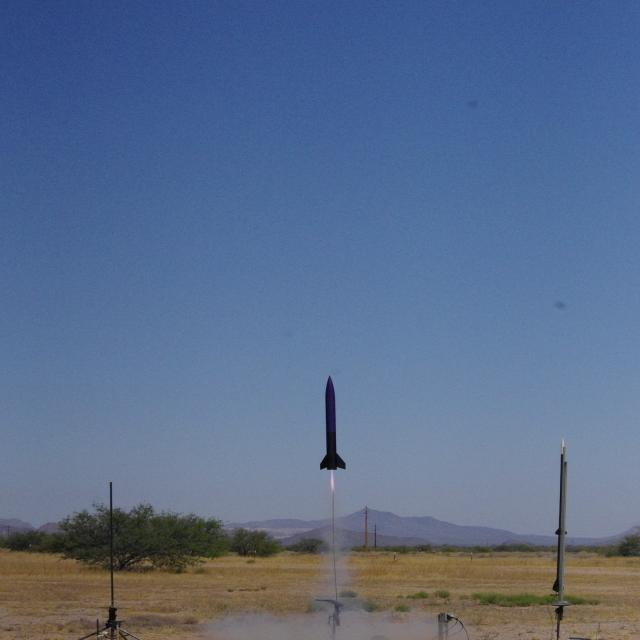Rocket: (552, 438, 568, 594), (320, 375, 346, 470)
